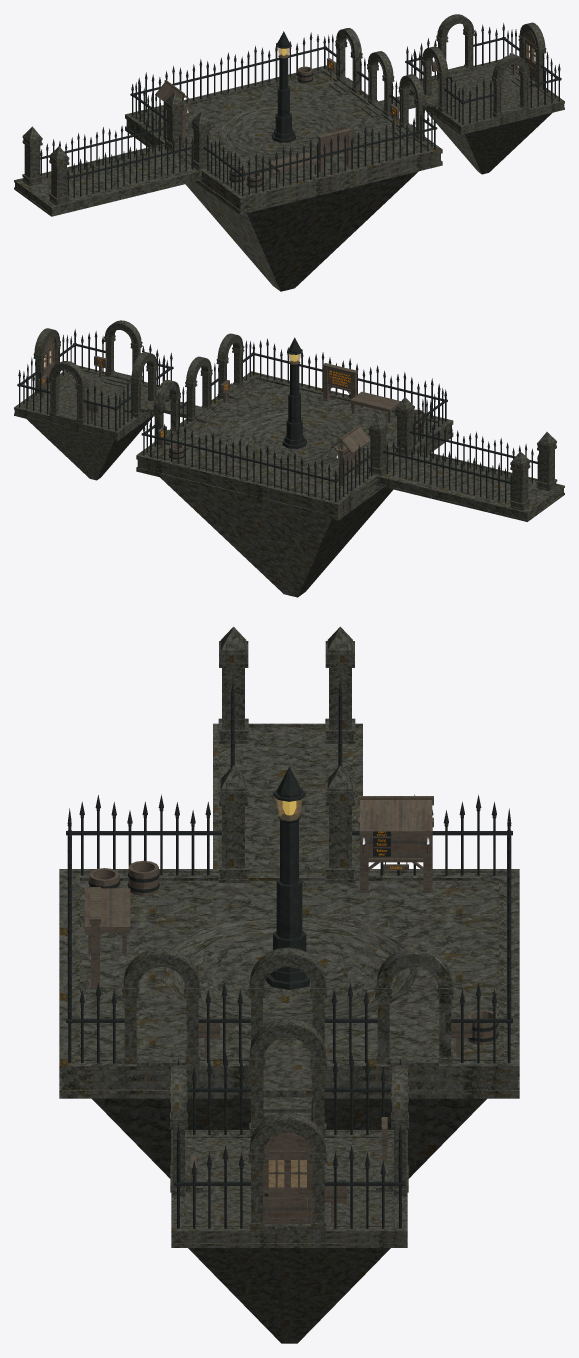
Rendered from Terminal-transformed.glb.
3 renders of one model, top to bottom at view 1: azimuth 30°, elevation 25°; view 2: azimuth 150°, elevation 25°; view 3: azimuth 270°, elevation 25°, orthographic. The views are drawn at different scales.
Parts seen in each view (by area): view 1: Platform, Platform.001, Walkway.001, FenceSpikes, FenceSpikes.006, FenceSpikes.001, FenceSpikes.005, Lamppost, Archway.005, Archway, Archway.006, Archway.002 (+17 smaller); view 2: Platform, Platform.001, Walkway.001, FenceSpikes.006, FenceSpikes, FenceSpikes.005, FenceSpikes.001, Lamppost, Archway.004, Archway.002, Archway.006, Archway.001 (+17 smaller); view 3: Platform, Platform.001, Walkway.001, Directory, Lamppost, Door, Archway.001, Archway, Archway.003, Archway.006, Steps, Archway.002 (+23 smaller).
Boxes of the visible parts, <box> form: Platform: <box>125,65,442,291</box>; Platform.001: <box>409,59,564,174</box>; Walkway.001: <box>14,143,202,216</box>; FenceSpikes: <box>240,112,437,196</box>; FenceSpikes.006: <box>130,32,327,115</box>; FenceSpikes.001: <box>67,134,197,199</box>; FenceSpikes.005: <box>40,115,170,179</box>; Lamppost: <box>271,31,295,142</box>; Archway.005: <box>491,54,530,117</box>; Archway: <box>335,28,362,93</box>; Archway.006: <box>421,46,448,112</box>; Archway.002: <box>367,51,394,116</box>; Platform: <box>136,371,453,597</box>; Platform.001: <box>14,365,170,480</box>; Walkway.001: <box>376,449,564,521</box>; FenceSpikes.006: <box>141,419,337,502</box>; FenceSpikes: <box>251,338,447,421</box>; FenceSpikes.005: <box>382,439,512,503</box>; FenceSpikes.001: <box>409,419,538,483</box>; Lamppost: <box>282,337,306,448</box>; Archway.004: <box>48,361,87,423</box>; Archway.002: <box>185,356,212,421</box>; Archway.006: <box>130,352,158,417</box>; Archway.001: <box>216,333,244,398</box>; Platform: <box>59,869,519,1178</box>; Platform.001: <box>171,1130,407,1343</box>; Walkway.001: <box>213,723,362,868</box>; Directory: <box>358,796,433,892</box>; Lamppost: <box>266,766,309,989</box>; Door: <box>263,1132,312,1223</box>; Archway.001: <box>122,947,201,1064</box>; Archway: <box>375,947,453,1064</box>; Archway.003: <box>248,1112,327,1231</box>; Archway.006: <box>248,1018,327,1136</box>; Steps: <box>263,1049,311,1120</box>; Archway.002: <box>248,947,327,1042</box>.
Size of the model in its own units: 5.02 by 2.44 by 1.99.
7 materials, 4 textured.
